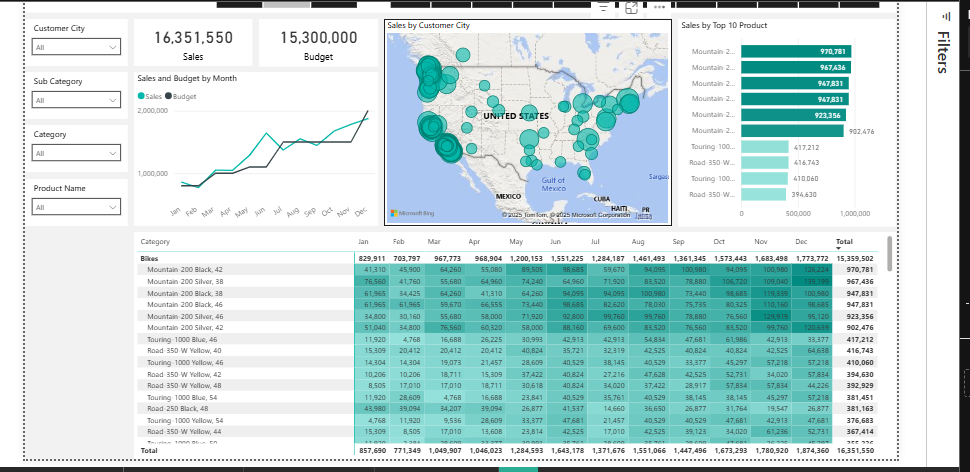

This screenshot's page, from the dashboard's own definition file:
{"tool":"powerbi","page":{"name":"Product Details","canvas":[1280,720],"ordinal":2},"visuals":[{"type":"textbox","box":[0,0,1280,64],"z":0},{"type":"slicer","fields":{"Values":["DIM_Calendar.Year"]},"box":[256,0,256,64],"z":1000},{"type":"slicer","fields":{"Values":["DIM_Calendar.MonthShort"]},"box":[512,0,768,64],"z":2000},{"type":"slicer","fields":{"Values":["DIM_Customers.Customer City"]},"box":[0,73,150.5,69.3],"z":3000},{"type":"slicer","fields":{"Values":["DIM_Products.Product Category"]},"box":[0,229.9,150.5,69.3],"z":4000},{"type":"slicer","fields":{"Values":["DIM_Products.Product Name"]},"box":[0,308.4,150.5,69.3],"z":5000},{"type":"slicer","fields":{"Values":["DIM_Products.Sub Category"]},"box":[0,151.4,150.5,69.3],"z":6000},{"type":"lineChart","fields":{"Category":["DIM_Calendar.MonthShort"],"Y":["Analysis Metrics.Sales","Analysis Metrics.Budget"]},"box":[159.8,151.8,358.7,226.4],"z":7000},{"type":"card","fields":{"Values":["Analysis Metrics.Sales"]},"box":[160.7,72.8,174,69.2],"z":8000},{"type":"map","fields":{"Category":["DIM_Customers.Customer City"],"Size":["Analysis Metrics.Sales"]},"box":[527.3,72.8,423.5,304.5],"z":9000},{"type":"card","fields":{"Values":["Analysis Metrics.Budget"]},"box":[343.6,72.8,174.9,70.1],"z":10000},{"type":"pivotTable","fields":{"Rows":["DIM_Products.Product Category","DIM_Products.Product Name"],"Columns":["DIM_Calendar.MonthShort"],"Values":["Analysis Metrics.Sales"]},"box":[159.8,387.1,1120.4,332.9],"z":11000},{"type":"clusteredBarChart","title":"Sales by Top 10 Product","fields":{"Category":["DIM_Products.Product Name"],"Y":["Analysis Metrics.Sales"]},"box":[959.7,72.8,320.5,304.5],"z":12000}]}

Visuals, with their boxes on the page's 1280x720 design canvas (x1, y1, x2, y2). These are canvas units, not pixel positions in the 970x472 screenshot, which may show the page scaled, cropped or inside an application window:
textbox: (left=0, top=0, right=1280, bottom=64)
slicer - DIM_Calendar.Year: (left=256, top=0, right=512, bottom=64)
slicer - DIM_Calendar.MonthShort: (left=512, top=0, right=1280, bottom=64)
slicer - DIM_Customers.Customer City: (left=0, top=73, right=150, bottom=142)
slicer - DIM_Products.Product Category: (left=0, top=230, right=150, bottom=299)
slicer - DIM_Products.Product Name: (left=0, top=308, right=150, bottom=378)
slicer - DIM_Products.Sub Category: (left=0, top=151, right=150, bottom=221)
lineChart - DIM_Calendar.MonthShort x Analysis Metrics.Sales: (left=160, top=152, right=518, bottom=378)
card - Analysis Metrics.Sales: (left=161, top=73, right=335, bottom=142)
map - DIM_Customers.Customer City x Analysis Metrics.Sales: (left=527, top=73, right=951, bottom=377)
card - Analysis Metrics.Budget: (left=344, top=73, right=518, bottom=143)
pivotTable - DIM_Products.Product Category x DIM_Products.Product Name: (left=160, top=387, right=1280, bottom=720)
"Sales by Top 10 Product" clusteredBarChart: (left=960, top=73, right=1280, bottom=377)
